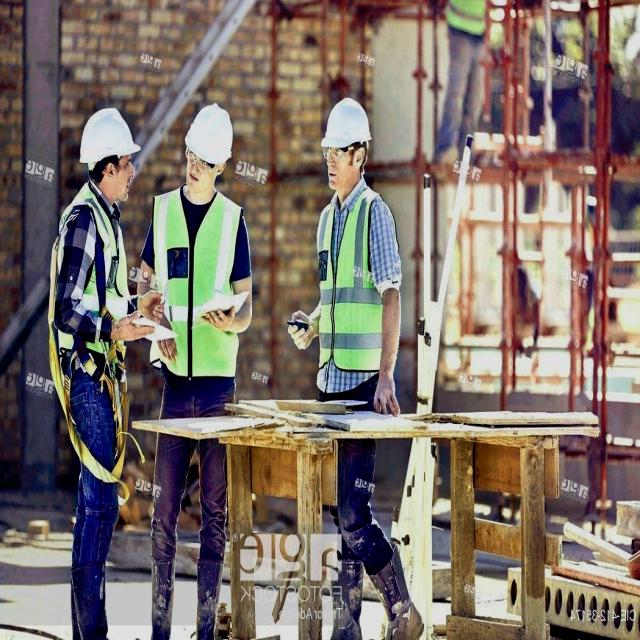face_nomask: (325, 143, 358, 191), (181, 150, 216, 192), (113, 154, 138, 198)
glasses: (185, 143, 216, 174), (322, 143, 354, 162)
hand_noglove: (370, 370, 403, 418), (112, 310, 152, 344), (200, 300, 236, 334), (136, 284, 166, 324), (287, 314, 317, 353), (157, 323, 179, 362)
head_helmet: (80, 104, 143, 163), (181, 104, 237, 158), (319, 98, 376, 148)
person: (146, 103, 241, 640), (54, 106, 141, 636), (317, 102, 390, 636)
shoes: (374, 566, 424, 640)
vest: (159, 195, 234, 363), (321, 197, 387, 373), (69, 207, 127, 349)
